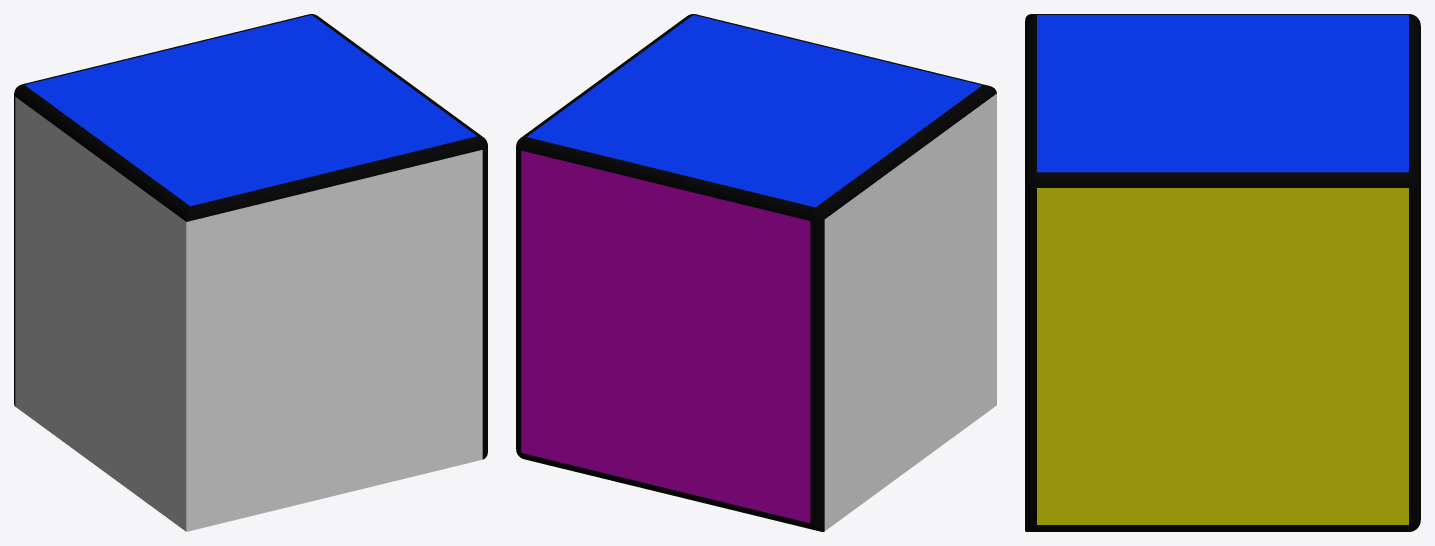
The model's file is dotcube.fbx.
The picture shows the model from 3 angles, left to right: view 1: azimuth 30°, elevation 25°; view 2: azimuth 150°, elevation 25°; view 3: azimuth 270°, elevation 25°; orthographic projection. The views are drawn at different scales.
Visible parts, largest first — view 1: 立方体; view 2: 立方体; view 3: 立方体.
Part boxes in pixels (x1,y1,x2,y2): 立方体: [14, 14, 487, 531]; 立方体: [516, 14, 996, 531]; 立方体: [1025, 14, 1420, 531].
Size of the model in its own units: 200 by 200 by 200.
